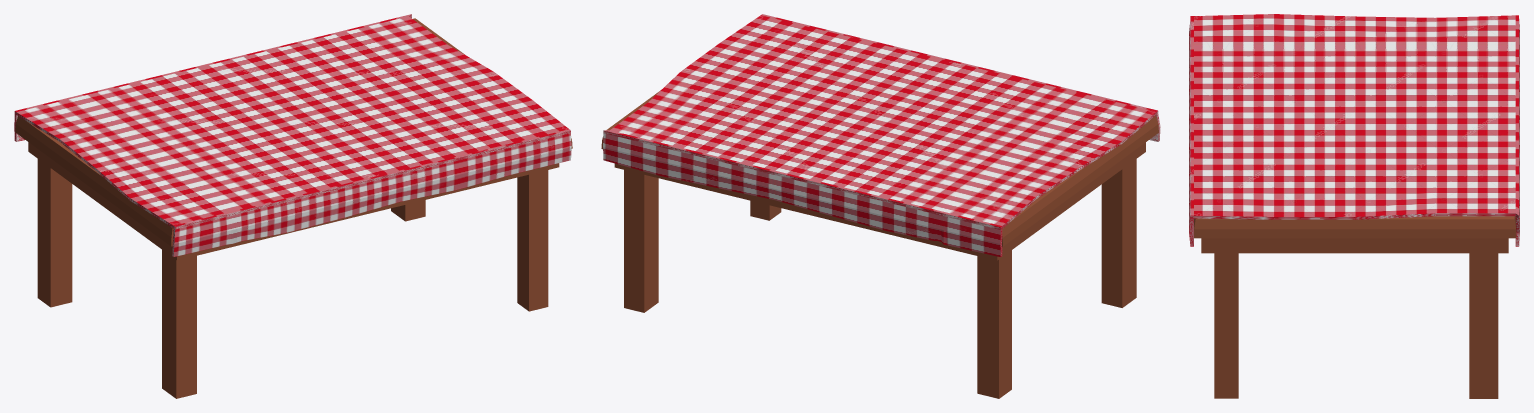
The model's file is MesaDeJantar.fbx.
The picture shows the model from 3 angles, left to right: view 1: azimuth 30°, elevation 25°; view 2: azimuth 150°, elevation 25°; view 3: azimuth 270°, elevation 25°; orthographic projection. The views are drawn at different scales.
Parts seen in each view (by area): view 1: Cube.121, Cube.096; view 2: Cube.121, Cube.096; view 3: Cube.121, Cube.096.
Boxes of the visible parts, box(x1,y1,x2,y2) form: Cube.121: box(14, 14, 571, 256); Cube.096: box(15, 18, 572, 398); Cube.121: box(603, 14, 1160, 257); Cube.096: box(601, 90, 1158, 398); Cube.121: box(1189, 14, 1519, 246); Cube.096: box(1194, 216, 1516, 398).
Bounding box in the file's own units: 282 × 122 × 194.
2 materials, 1 textured.
